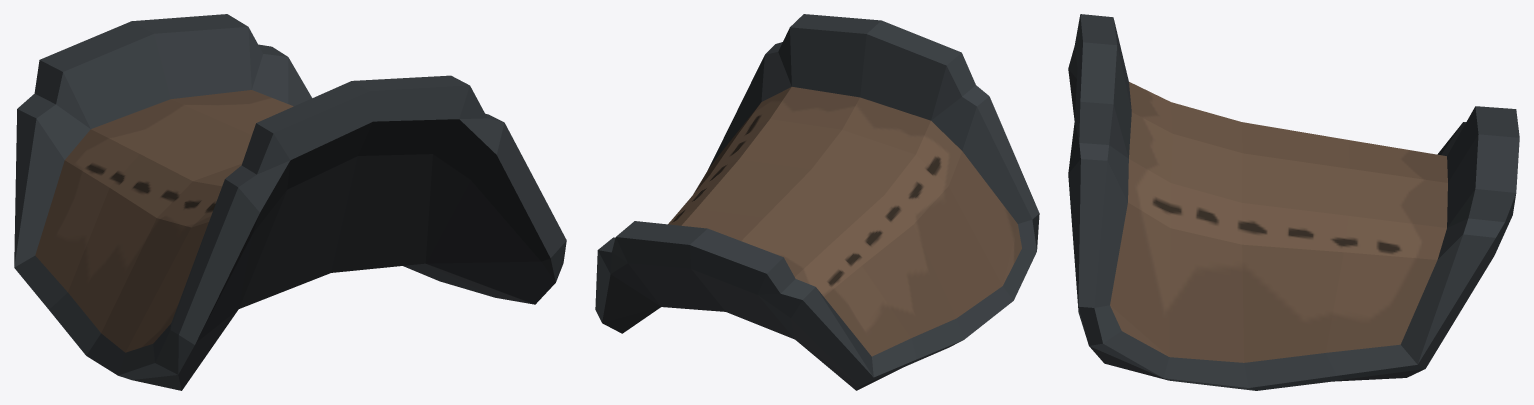
Rendered from SM_Chr_Attach_Saddle_Seat_Wolf_02.fbx.
The picture shows the model from 3 angles, left to right: view 1: azimuth 30°, elevation 25°; view 2: azimuth 150°, elevation 25°; view 3: azimuth 270°, elevation 25°; orthographic projection. The views are drawn at different scales.
Visible parts, largest first — view 1: SM_Chr_Attach_Saddle_Seat_Wolf_02; view 2: SM_Chr_Attach_Saddle_Seat_Wolf_02; view 3: SM_Chr_Attach_Saddle_Seat_Wolf_02.
Part boxes in pixels (<box>): SM_Chr_Attach_Saddle_Seat_Wolf_02: <box>14,14,566,390</box>; SM_Chr_Attach_Saddle_Seat_Wolf_02: <box>595,14,1039,390</box>; SM_Chr_Attach_Saddle_Seat_Wolf_02: <box>1068,14,1519,390</box>.
Bounding box in the file's own units: 34.86 × 23.71 × 35.76.
